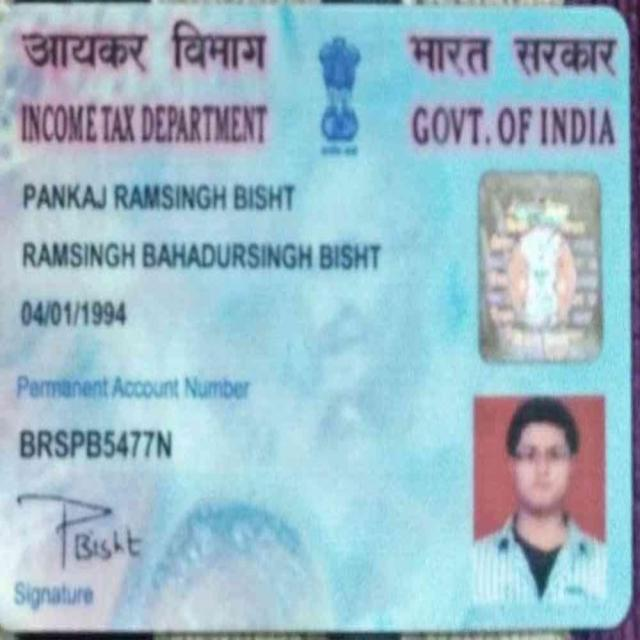pan_card: (1, 3, 640, 640)
